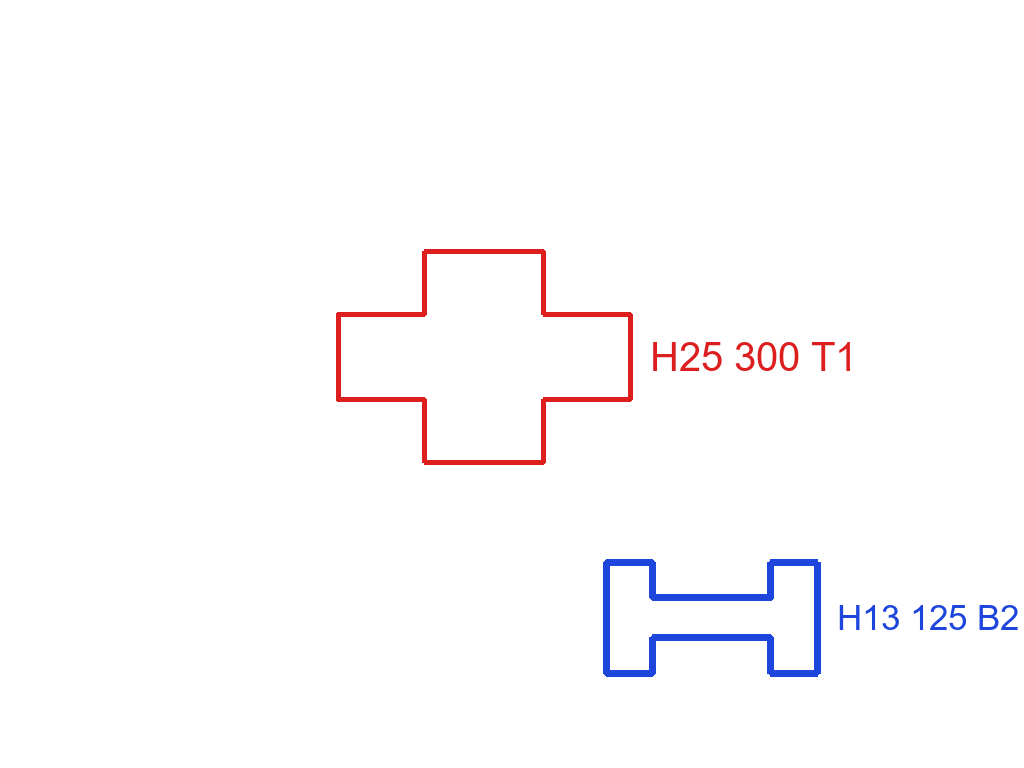shape: (334, 247, 635, 467), (601, 557, 823, 679)
text: (648, 340, 859, 373), (835, 603, 1021, 632)
